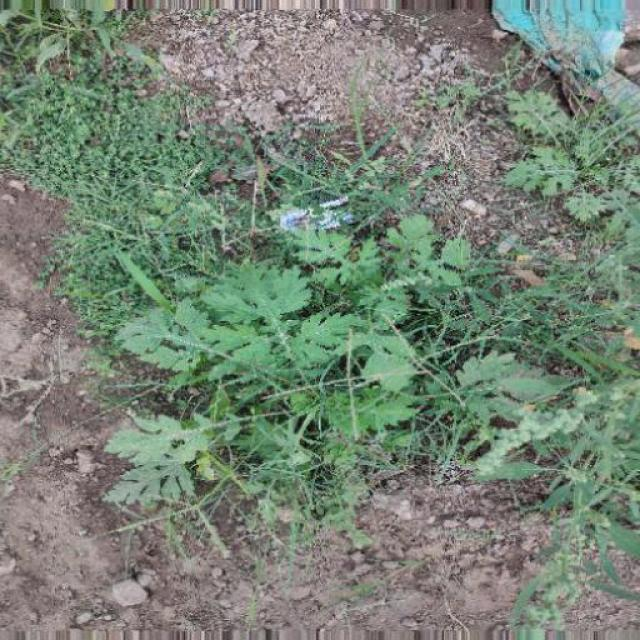weed: (118, 217, 514, 522), (31, 18, 208, 188), (494, 81, 640, 231)
